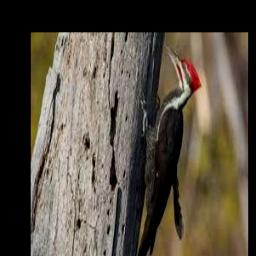Woodpecker: (131, 43, 202, 256)
